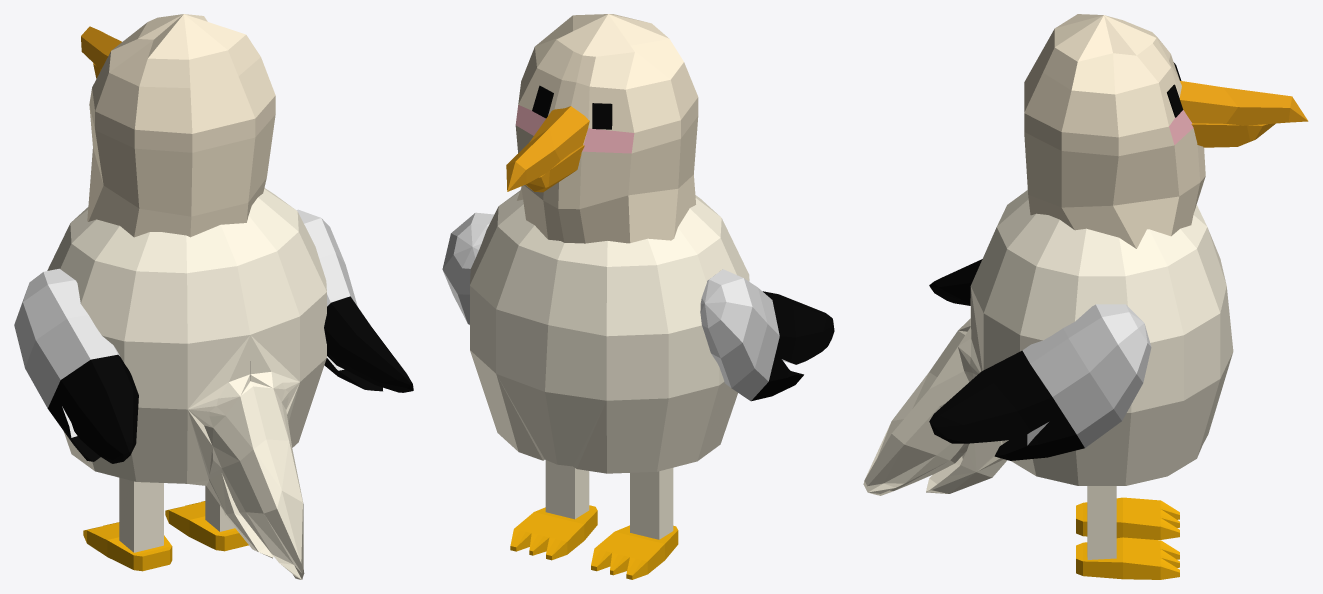
Rendered from gaivota.fbx.
The picture shows the model from 3 angles, left to right: view 1: azimuth 30°, elevation 25°; view 2: azimuth 150°, elevation 25°; view 3: azimuth 270°, elevation 25°; orthographic projection.
Parts seen in each view (by area): view 1: Sphere.001, Sphere.007, Sphere.002, Cube.001, Cube.003, Cone.001; view 2: Sphere.001, Sphere.007, Sphere.002, Cone.001, Cube.003, Cube.001, Cone.002, Cube.009; view 3: Sphere.001, Sphere.007, Sphere.002, Cone.001, Cube.003, Cube.001, Cone.002.
Boxes of the visible parts, left/top/right/bottom form: Sphere.001: left=47, top=188, right=326, bottom=579; Sphere.007: left=87, top=14, right=275, bottom=237; Sphere.002: left=14, top=209, right=413, bottom=463; Cube.001: left=83, top=522, right=172, bottom=571; Cube.003: left=165, top=501, right=248, bottom=551; Cone.001: left=81, top=26, right=121, bottom=68; Sphere.001: left=470, top=190, right=749, bottom=539; Sphere.007: left=515, top=14, right=698, bottom=243; Sphere.002: left=442, top=212, right=834, bottom=401; Cone.001: left=506, top=106, right=589, bottom=191; Cube.003: left=510, top=505, right=597, bottom=560; Cube.001: left=591, top=525, right=678, bottom=579; Cone.002: left=525, top=145, right=584, bottom=192; Cube.009: left=592, top=103, right=612, bottom=129; Sphere.001: left=863, top=190, right=1233, bottom=559; Sphere.007: left=1024, top=14, right=1205, bottom=248; Sphere.002: left=929, top=259, right=1151, bottom=460; Cone.001: left=1179, top=80, right=1308, bottom=125; Cube.003: left=1076, top=537, right=1179, bottom=579; Cube.001: left=1076, top=497, right=1179, bottom=539; Cone.002: left=1191, top=123, right=1275, bottom=147.
Size of the model in its own units: 270 by 444 by 337.
